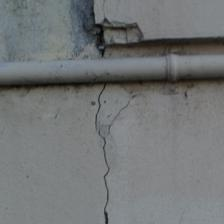Crack: (44, 49, 166, 205), (41, 115, 84, 159), (103, 8, 126, 48)
